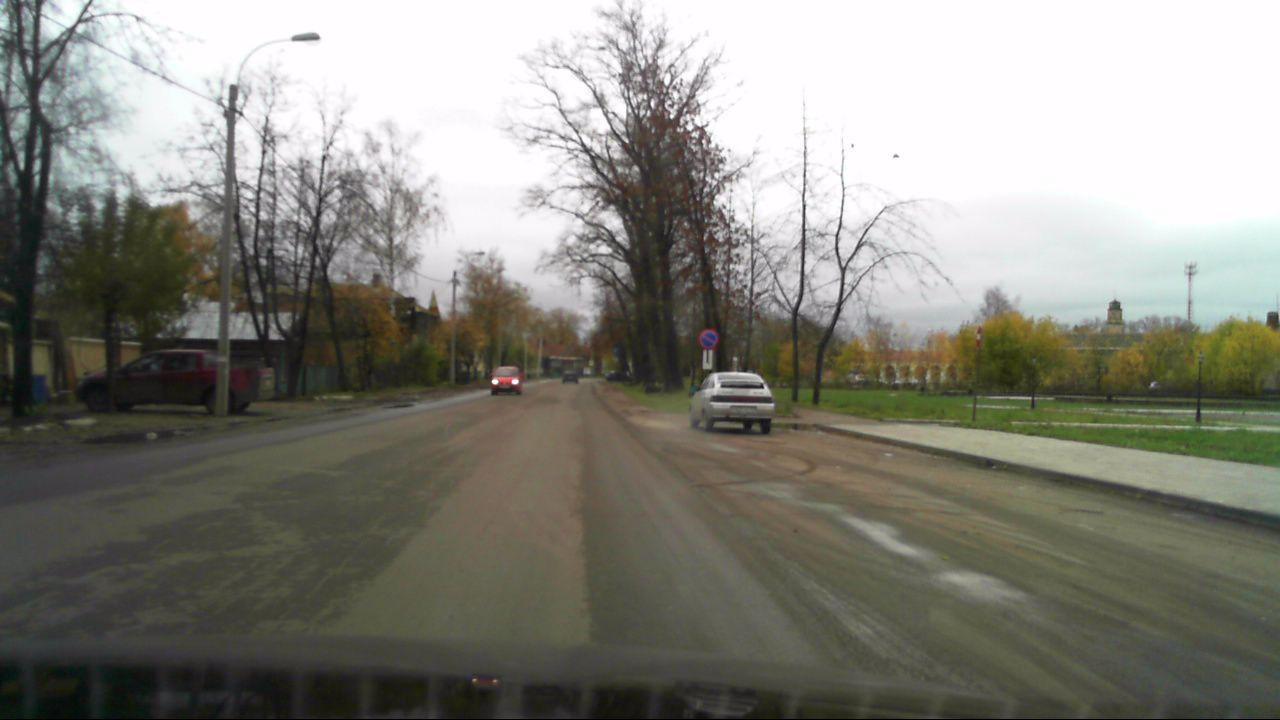3_28: (698, 329, 717, 348)
8_2_3: (701, 349, 714, 370)
